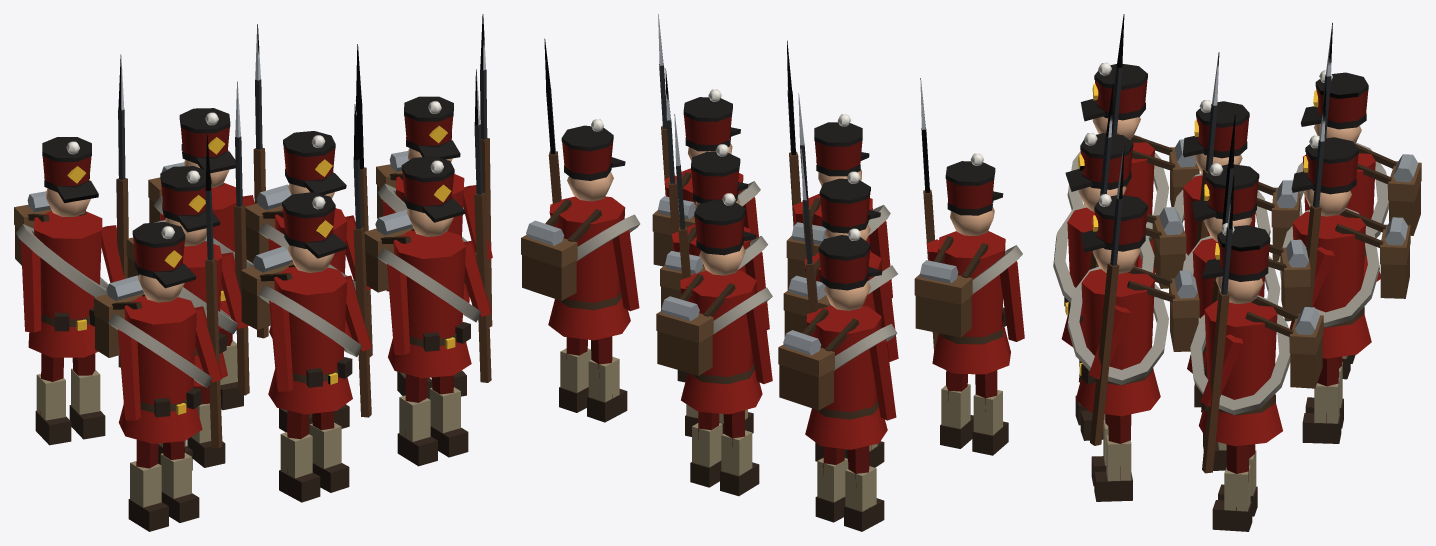
Rendered from squad_dl5_red.glb.
3 views of the same model, side by side, from view 1: azimuth 30°, elevation 25°; view 2: azimuth 150°, elevation 25°; view 3: azimuth 270°, elevation 25° (orthographic). The views are drawn at different scales.
Parts seen in each view (by area): view 1: squad_dl5_red; view 2: squad_dl5_red; view 3: squad_dl5_red.
Boxes of the visible parts, x1,y1,x2,y2 form: squad_dl5_red: (14, 14, 492, 531); squad_dl5_red: (521, 14, 1024, 531); squad_dl5_red: (1053, 14, 1421, 531).
Size of the model in its own units: 0.6357 by 0.5225 by 0.4753.
1 material, 1 textured.
